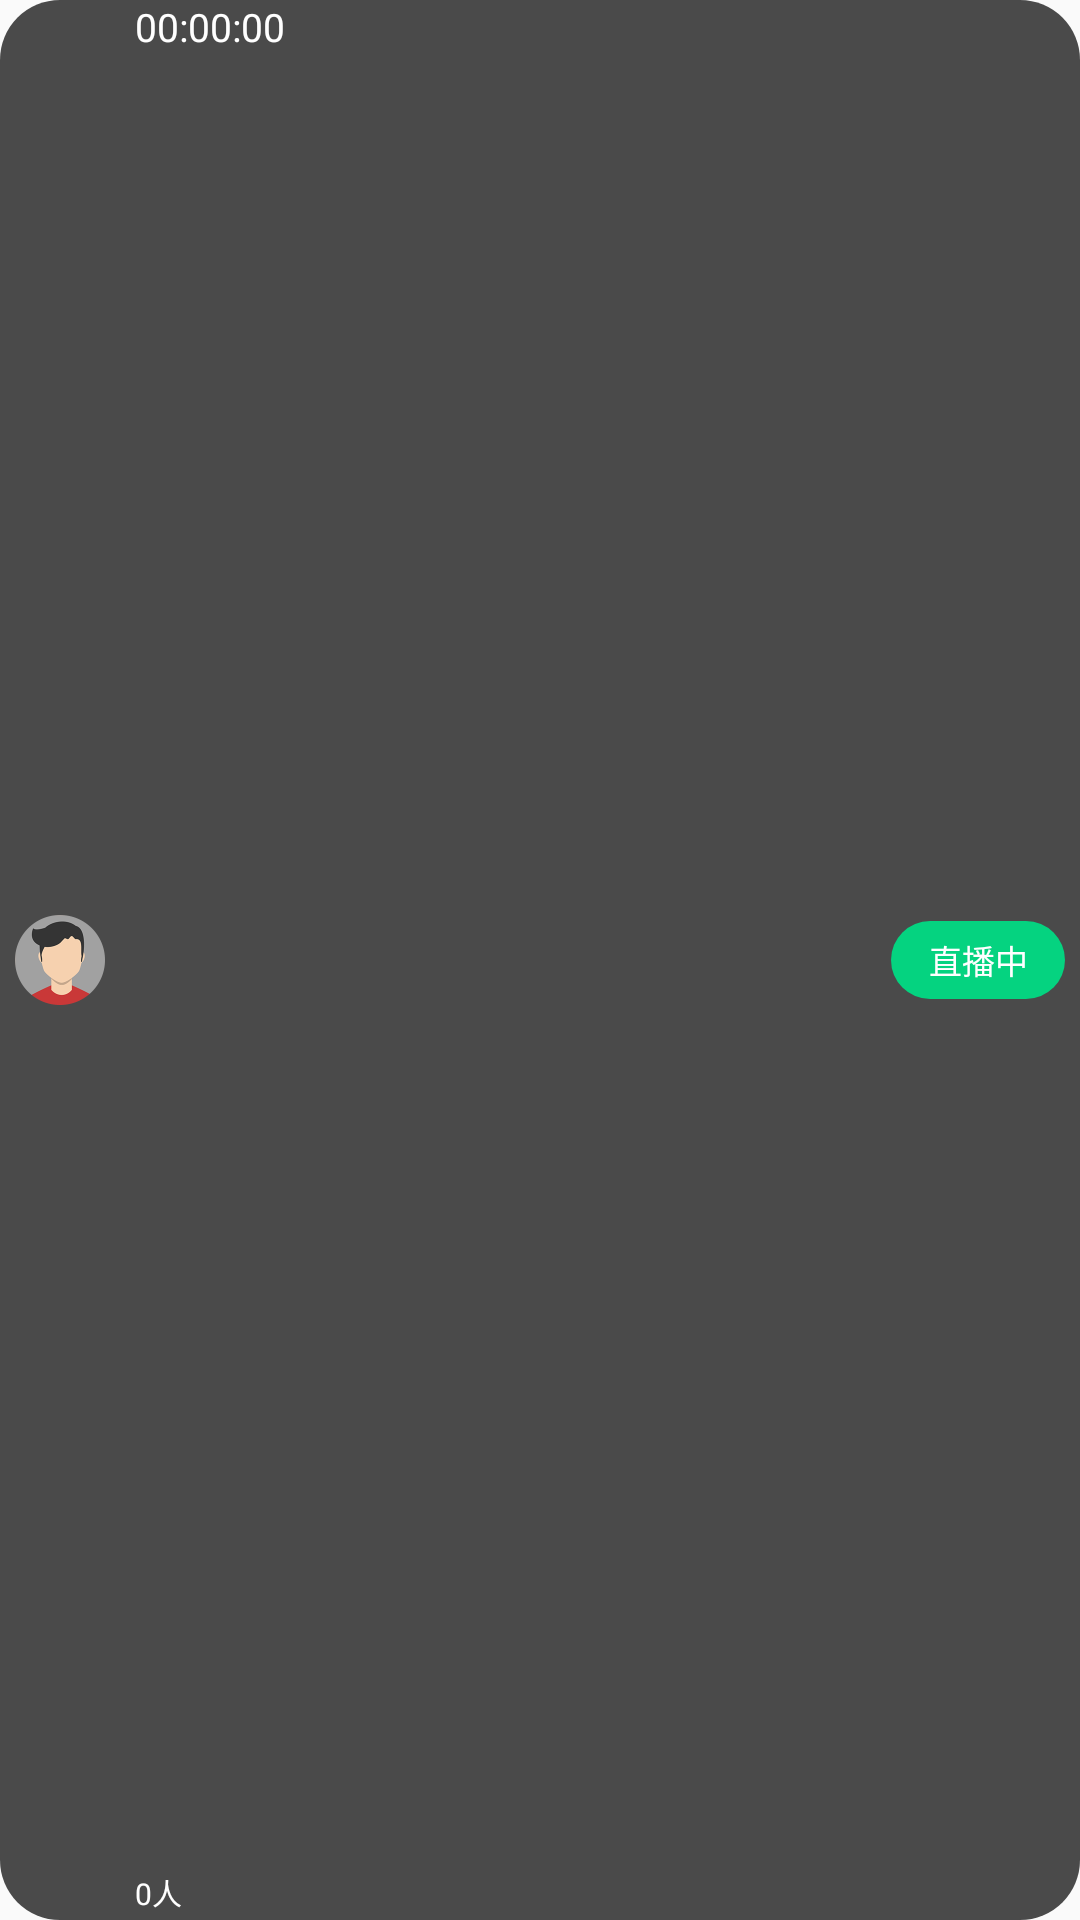

Screen size 1080px x 1920px. Icon name, then its box in pixels as [x1, y1, x2, y2]:
head: [15, 915, 105, 1005]
